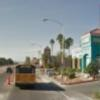buses: (12, 62, 38, 88)
